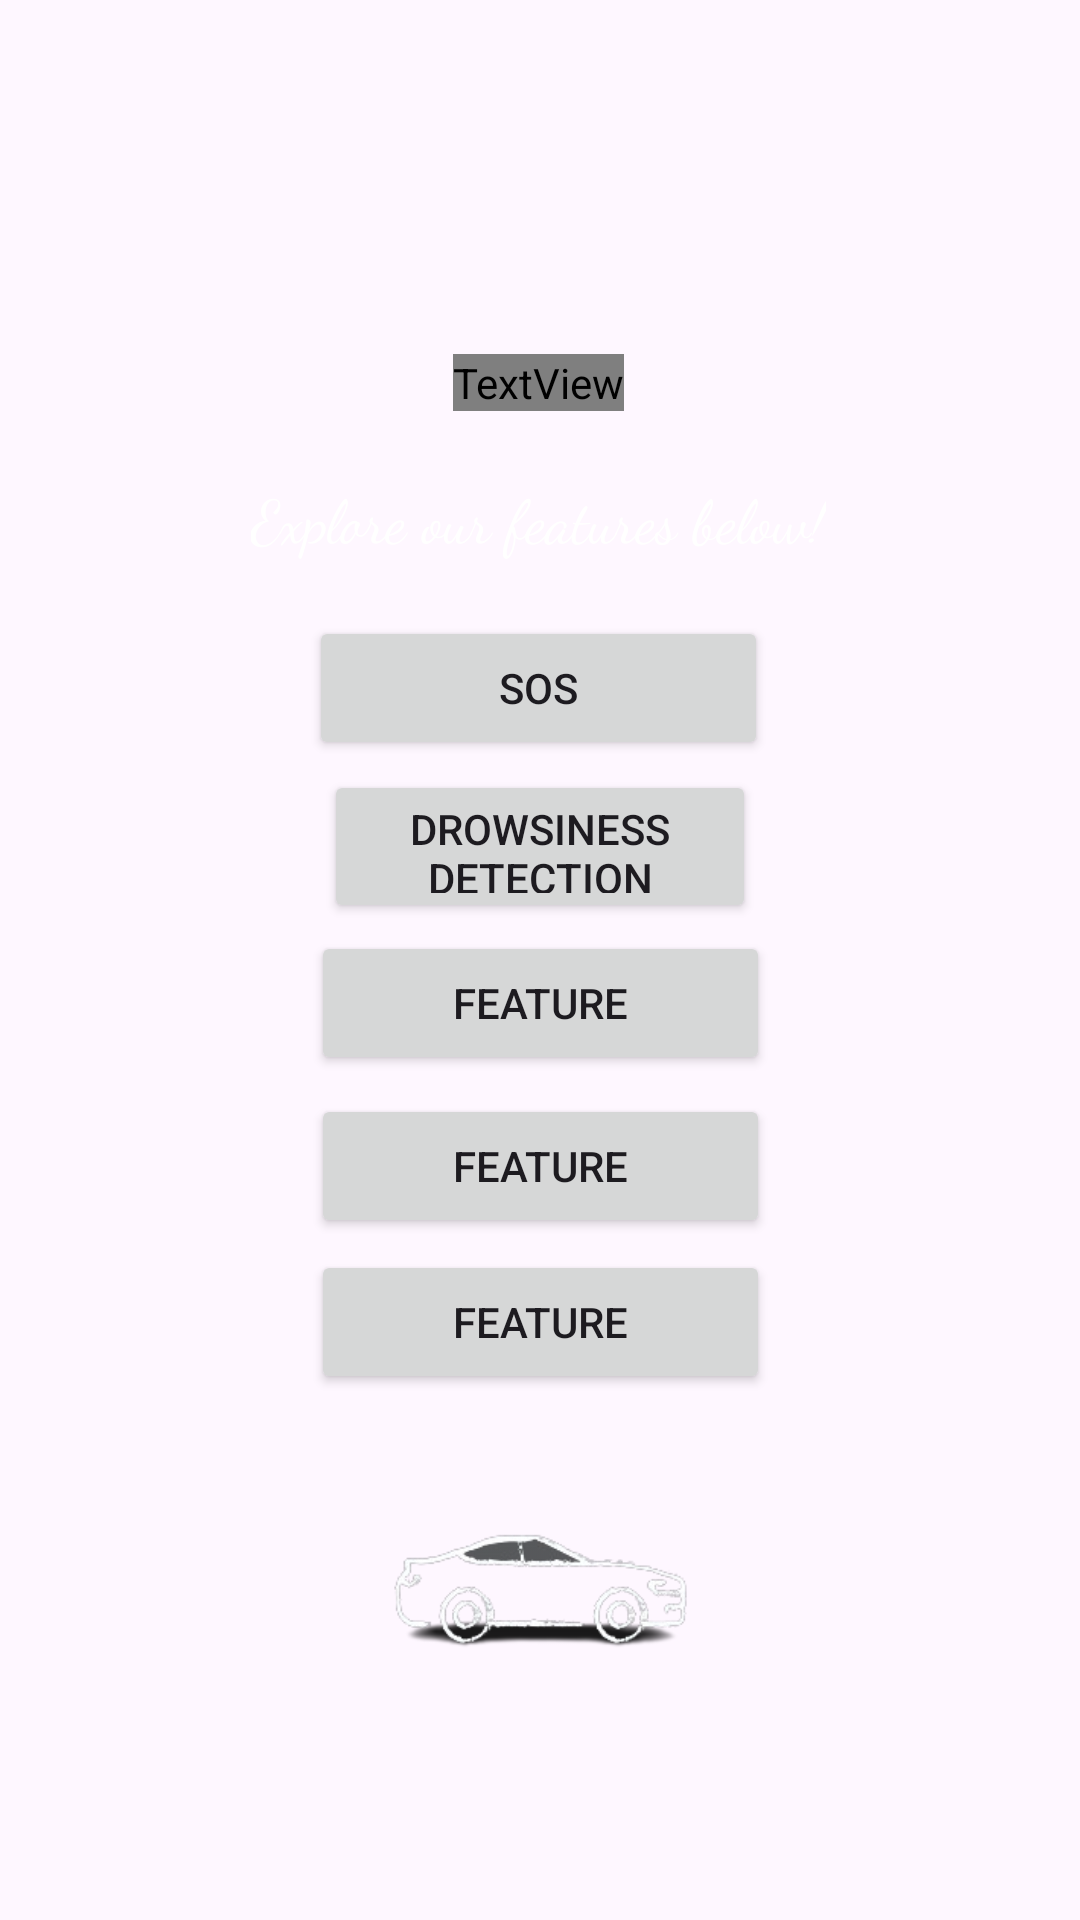

Where to tap for icons on this 1080px x 1920px app screen, as point (x, y):
car: point (540, 1590)
